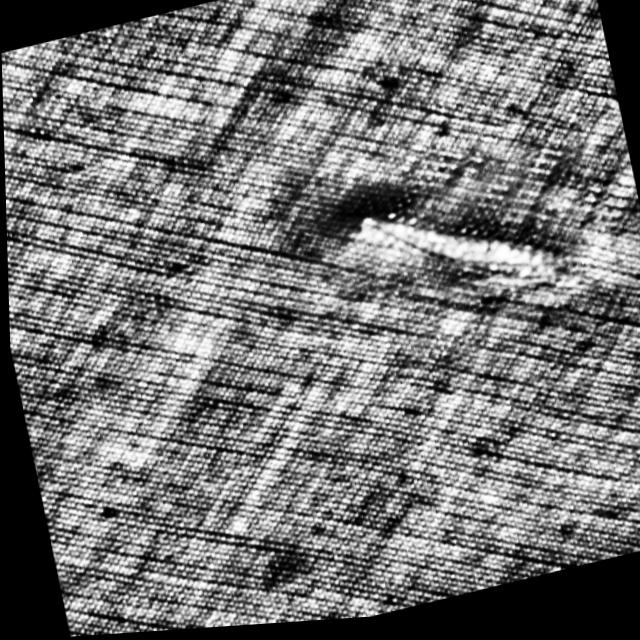Hole: (337, 169, 564, 339)
